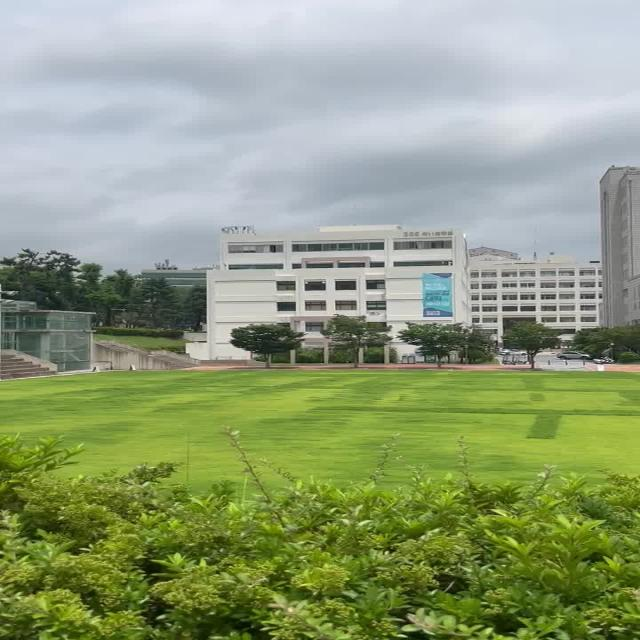building: (213, 219, 468, 321)
